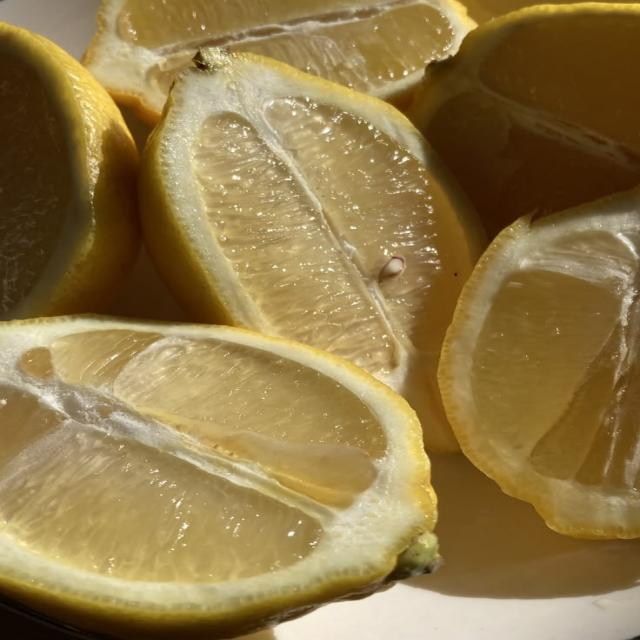lemon: (0, 317, 437, 639), (140, 49, 484, 450), (440, 190, 639, 538), (408, 3, 639, 235), (84, 0, 474, 122), (0, 24, 139, 319)
